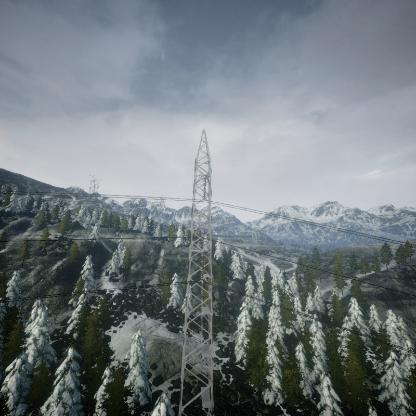tower: (175, 125, 224, 416)
